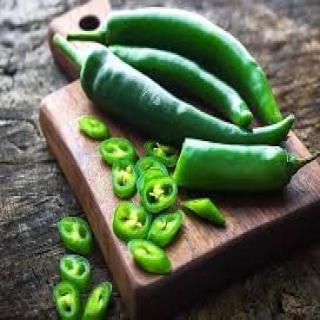Cabai Hijau: (82, 71, 296, 151), (116, 48, 279, 128), (175, 144, 293, 200), (78, 114, 141, 202), (58, 218, 96, 258), (59, 254, 94, 295), (54, 282, 84, 320), (85, 283, 115, 320), (192, 200, 228, 230)
